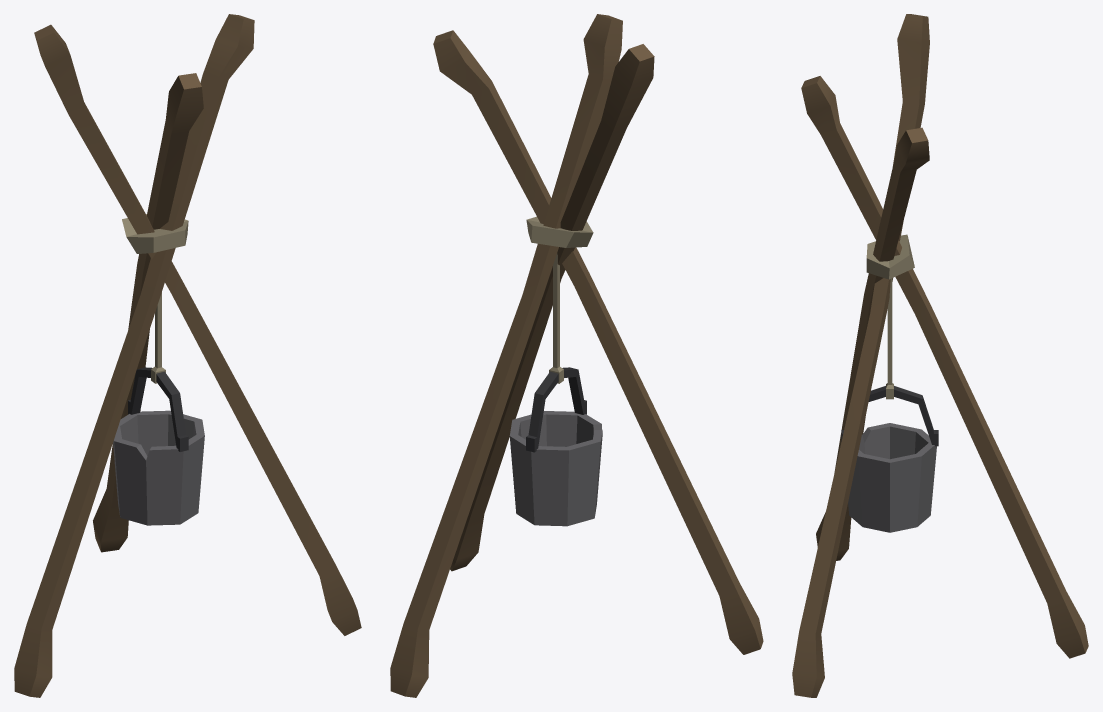
File: SM_Prop_Campfire_Pot_01.fbx
3 renders of one model, left to right at view 1: azimuth 30°, elevation 25°; view 2: azimuth 150°, elevation 25°; view 3: azimuth 270°, elevation 25°, orthographic. The views are drawn at different scales.
Parts seen in each view (by area): view 1: SM_Prop_Campfire_Pot_01; view 2: SM_Prop_Campfire_Pot_01; view 3: SM_Prop_Campfire_Pot_01.
Boxes of the visible parts, x1,y1,x2,y2 form: SM_Prop_Campfire_Pot_01: (14,14,361,697); SM_Prop_Campfire_Pot_01: (390,14,763,697); SM_Prop_Campfire_Pot_01: (792,14,1088,697).
Size of the model in its own units: 1.21 by 2.16 by 1.01.
